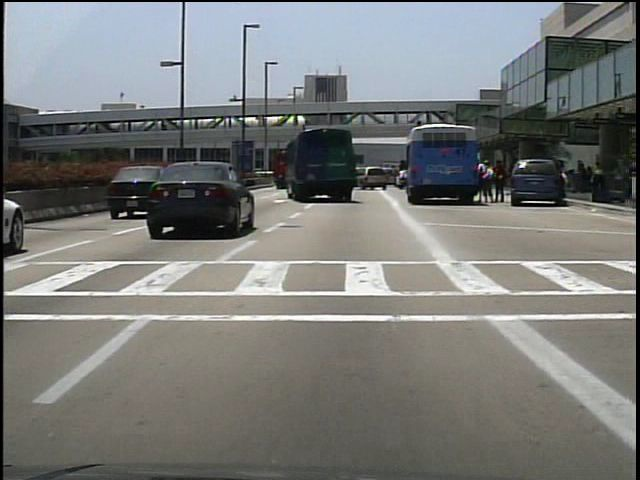person: (478, 158, 494, 204), (491, 161, 506, 205), (558, 164, 571, 203)
